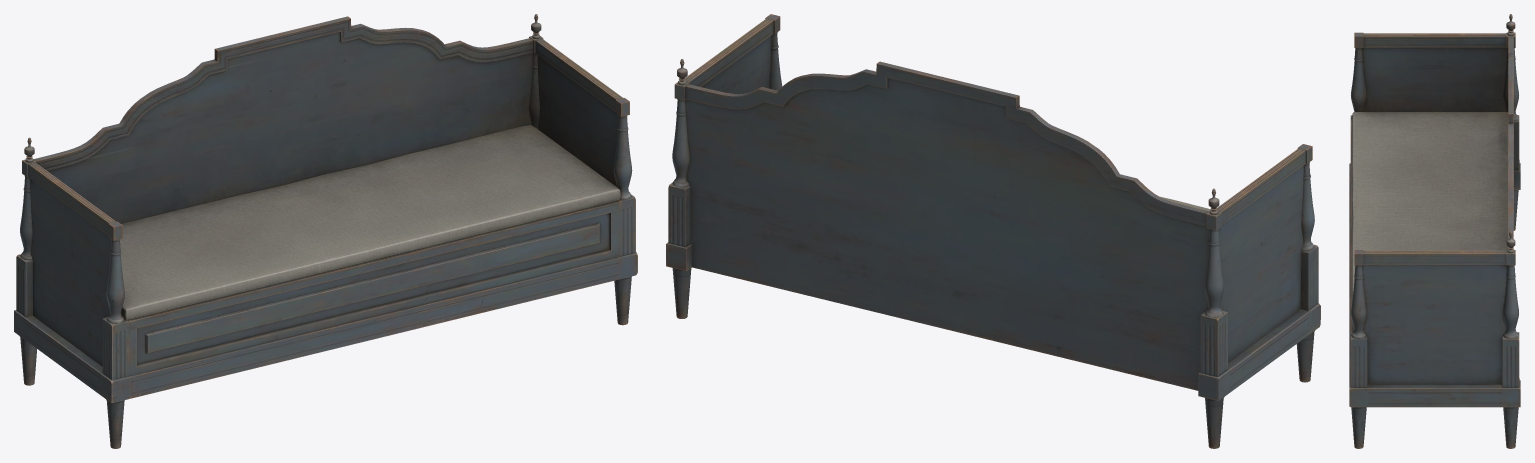
File: polyhaven-painted-wooden-sofa.glb
The picture shows the model from 3 angles, left to right: view 1: azimuth 30°, elevation 25°; view 2: azimuth 150°, elevation 25°; view 3: azimuth 270°, elevation 25°; orthographic projection. The views are drawn at different scales.
Parts seen in each view (by area): view 1: painted_wooden_sofa; view 2: painted_wooden_sofa; view 3: painted_wooden_sofa.
Boxes of the visible parts, bbox=[...] form: painted_wooden_sofa: bbox=[14, 14, 637, 448]; painted_wooden_sofa: bbox=[666, 14, 1320, 448]; painted_wooden_sofa: bbox=[1349, 14, 1520, 448].
Bounding box in the file's own units: 2.45 × 1.28 × 0.7872.
1 material, 1 textured.
